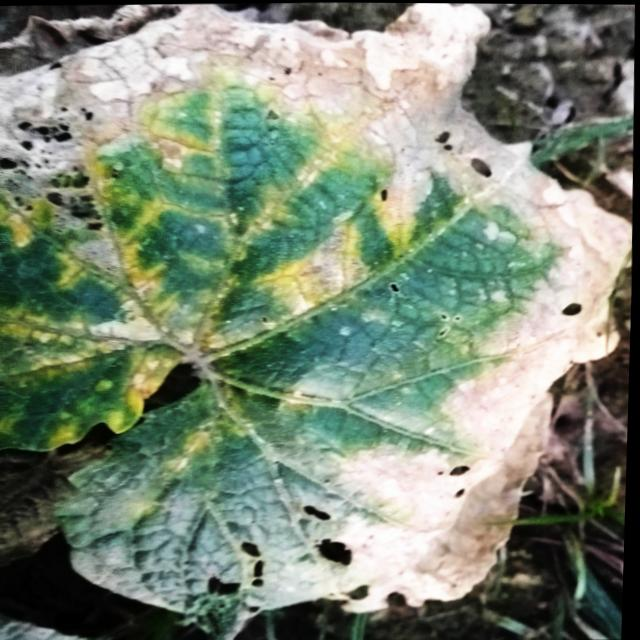Anthracnose: (0, 97, 122, 244), (200, 537, 276, 620), (298, 499, 358, 571)
